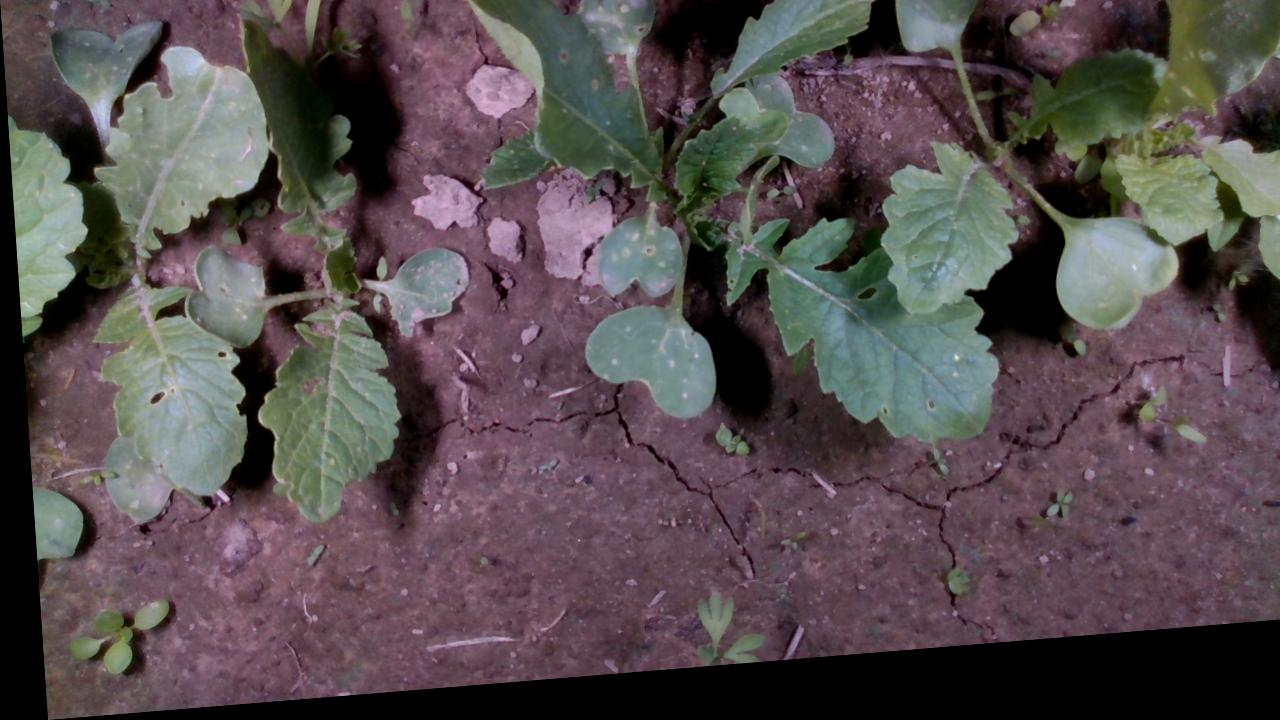weed: (50, 597, 168, 684)
